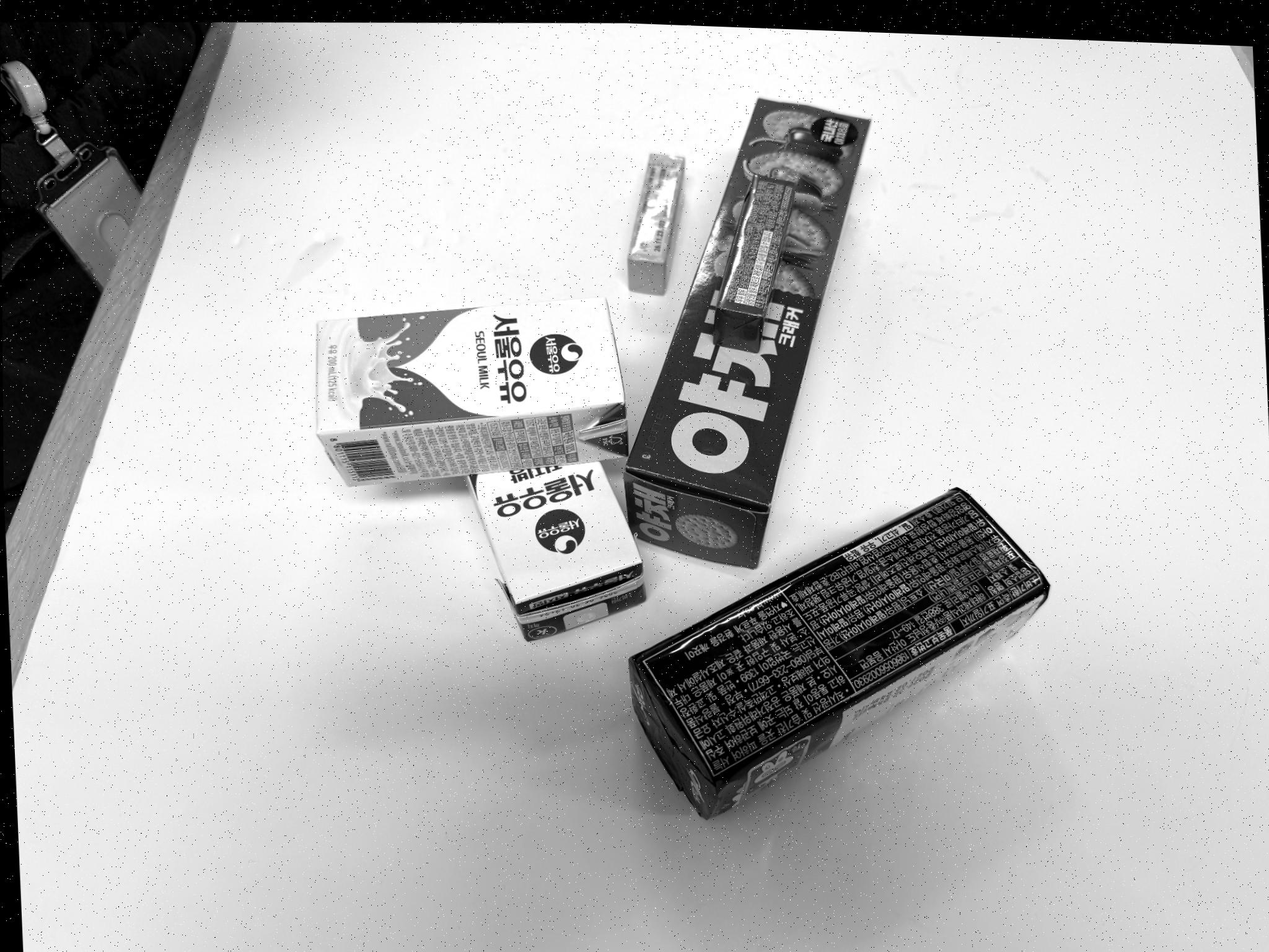cracker_ace: (629, 490, 1049, 819)
cracker_vege: (625, 99, 871, 568)
gum_green: (713, 169, 800, 351)
gum_yellow: (628, 154, 684, 295)
milk_blue: (469, 463, 646, 641)
milk_green: (315, 299, 626, 486)
